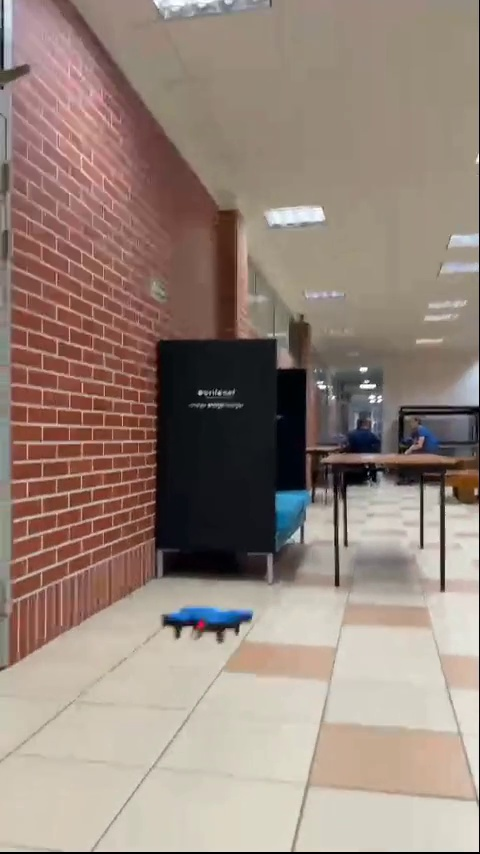drone: (162, 605, 263, 639)
no vest: (344, 415, 387, 460), (403, 415, 439, 463)
